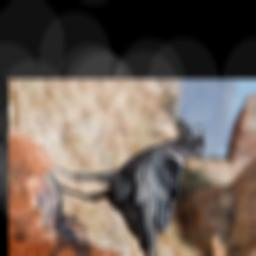Crow: (44, 122, 220, 256)
